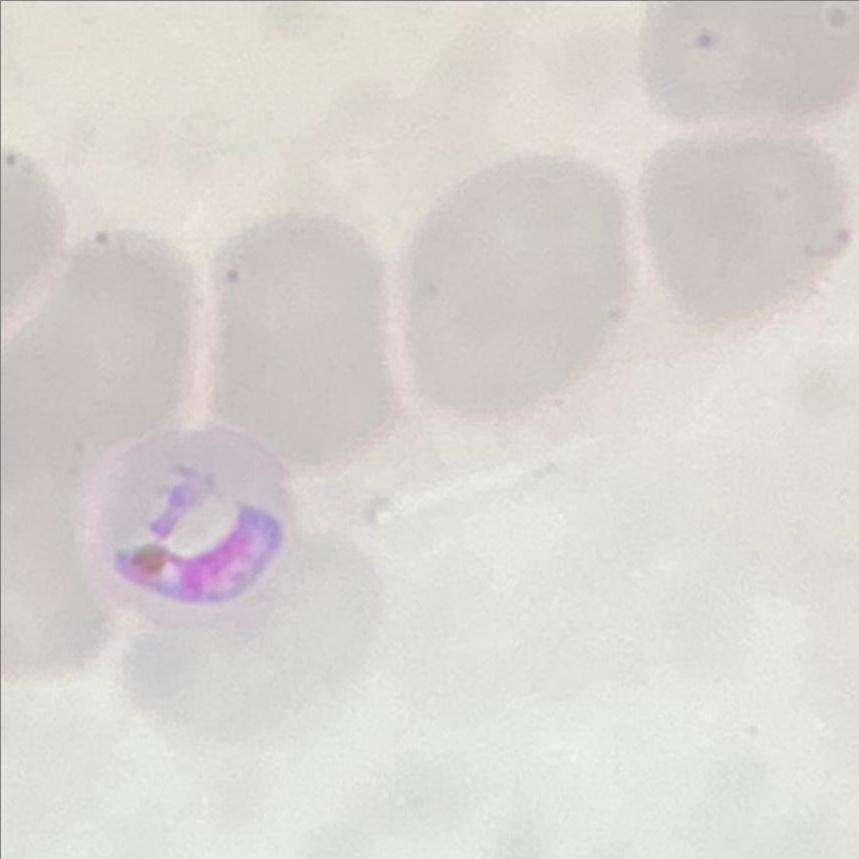Infected: (82, 425, 307, 638)
Uninfected: (406, 159, 634, 419), (202, 209, 407, 474), (0, 227, 203, 474), (646, 125, 849, 342)
